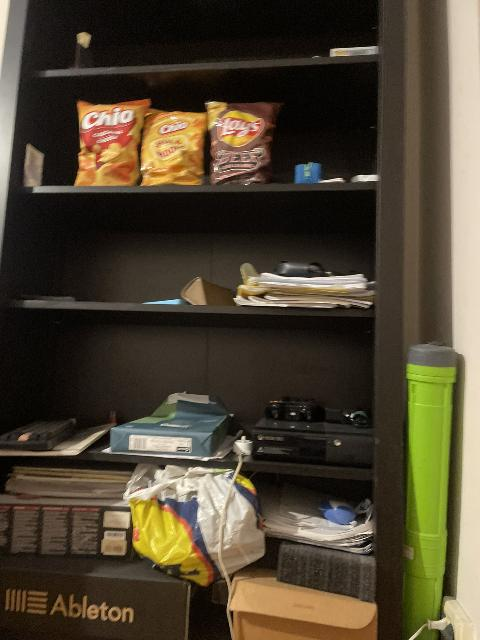Chio Cascaval 125g: (73, 99, 150, 187)
Chio Hula Hoops Cheese 70g: (138, 108, 208, 185)
Lays Beef Grilled Ribs 125g: (207, 101, 284, 185)
